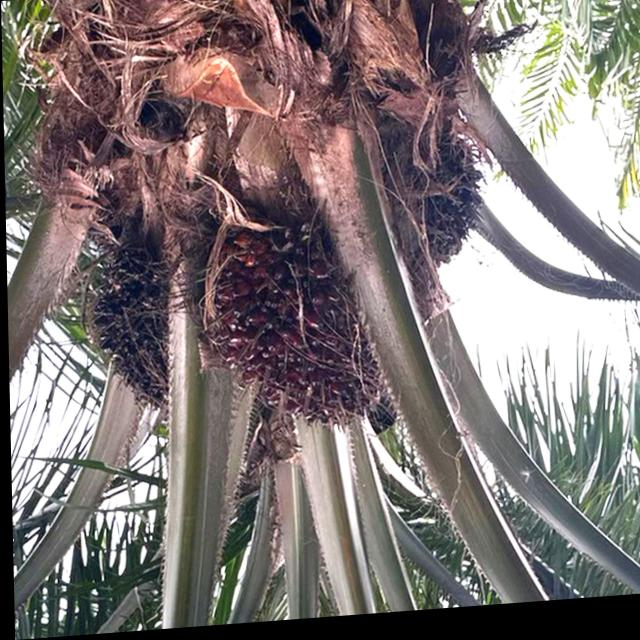ripe: (189, 216, 391, 458)
